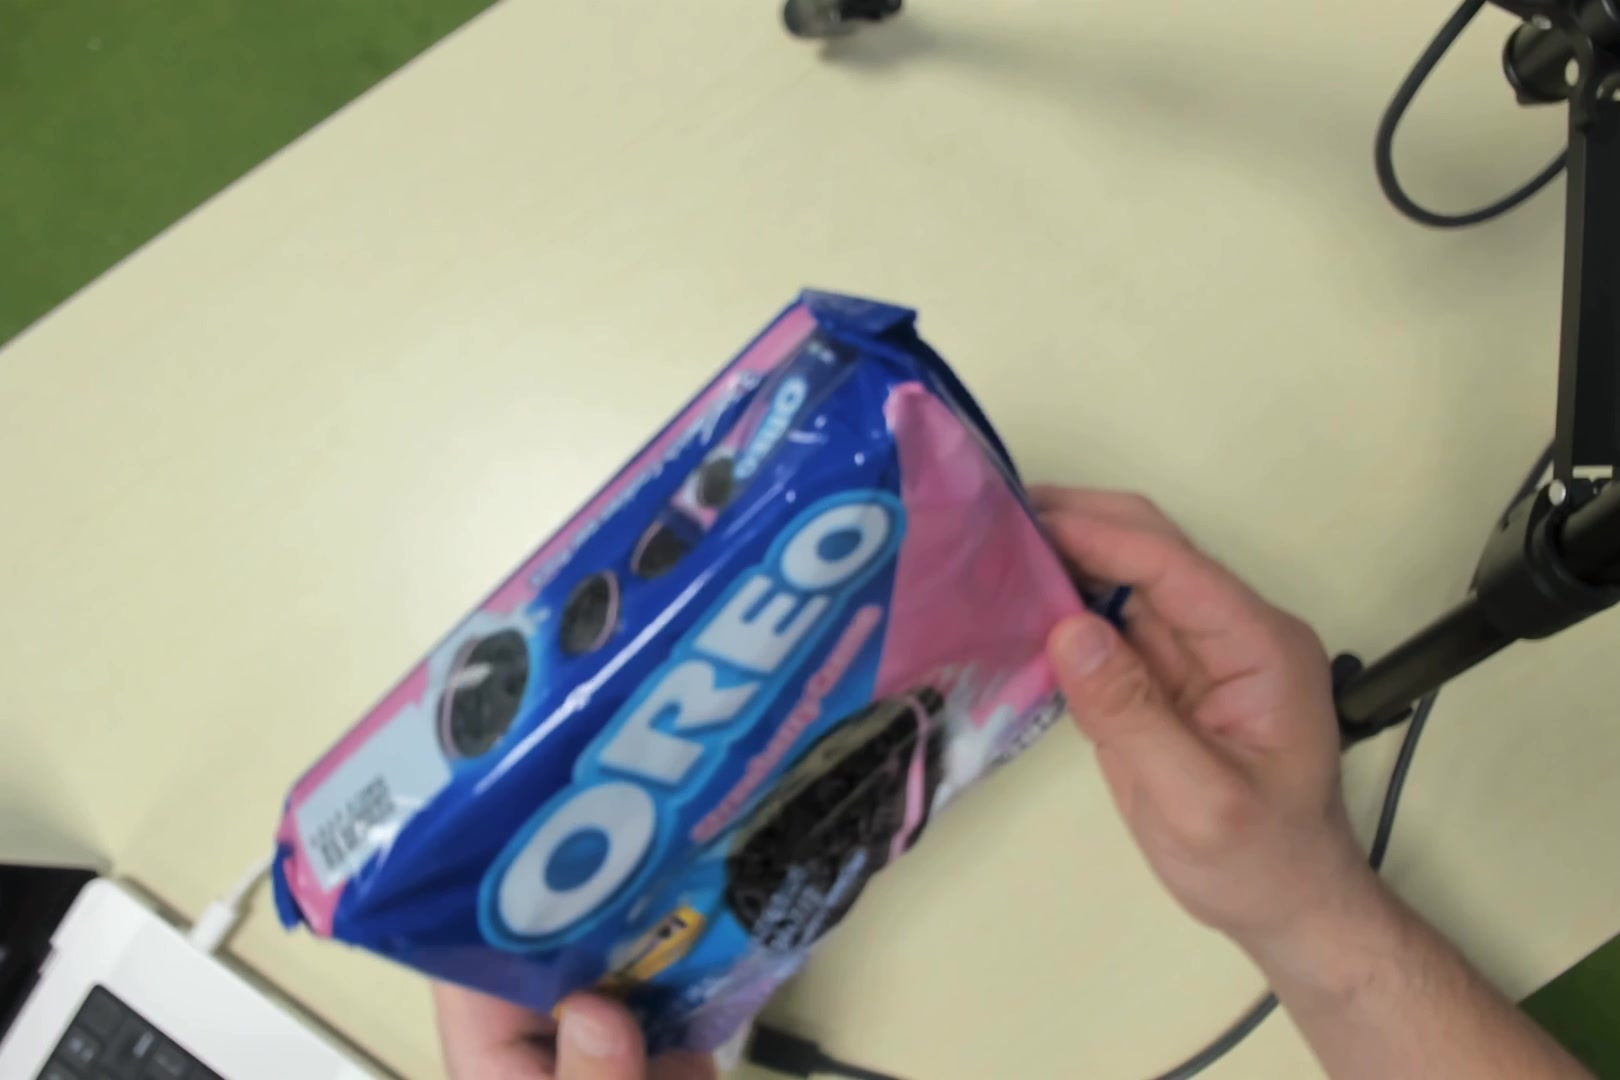SweetsChocolatesOthers_200-299g_Halal_NonHealthy: (386, 312, 963, 1012)
